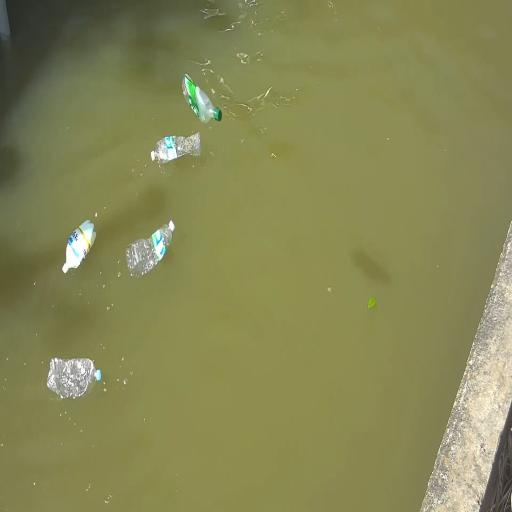plastic: (127, 221, 174, 276), (47, 358, 101, 398), (182, 74, 221, 123), (63, 220, 96, 273), (151, 132, 200, 163)
